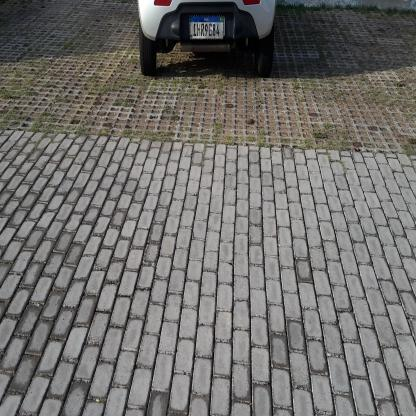PlacaM: (190, 15, 224, 40)
